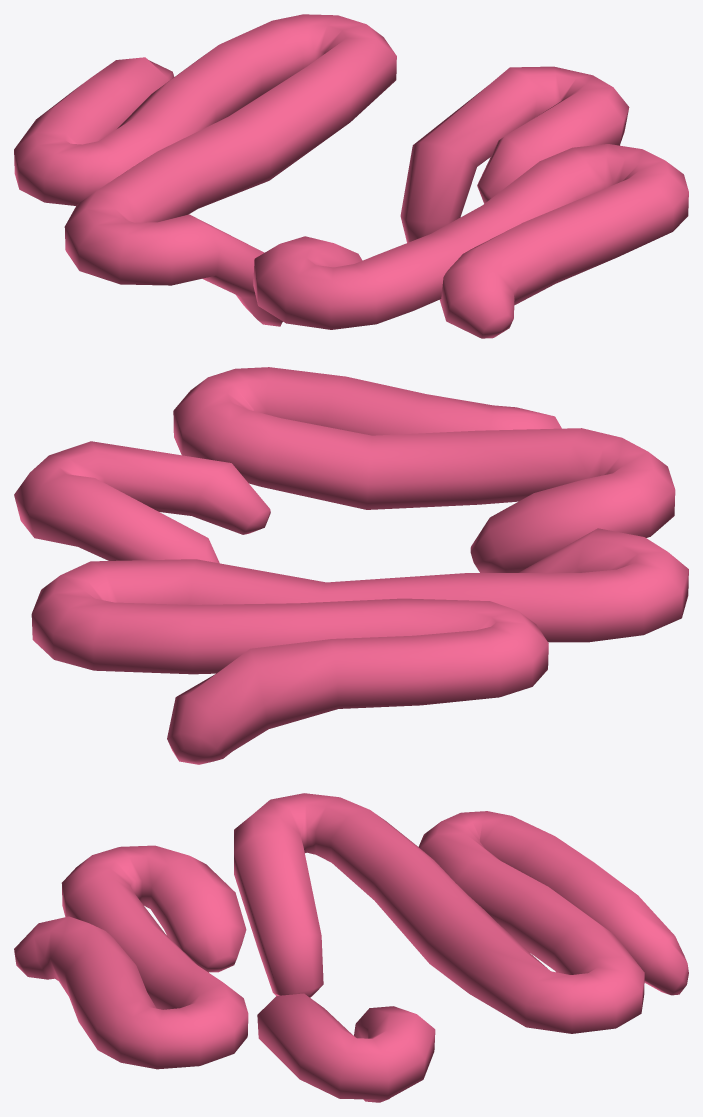
Rendered from candy_assets55.fbx.
3 views of the same model, one above another, from view 1: azimuth 30°, elevation 25°; view 2: azimuth 150°, elevation 25°; view 3: azimuth 270°, elevation 25° (orthographic). The views are drawn at different scales.
Visible parts, largest first — view 1: candy_assets55; view 2: candy_assets55; view 3: candy_assets55.
Part boxes in pixels (bbox=[...]): candy_assets55: bbox=[14, 14, 688, 338]; candy_assets55: bbox=[14, 367, 688, 764]; candy_assets55: bbox=[14, 793, 688, 1102].
Bounding box in the file's own units: 498 × 122 × 537.
1 material, 1 textured.
